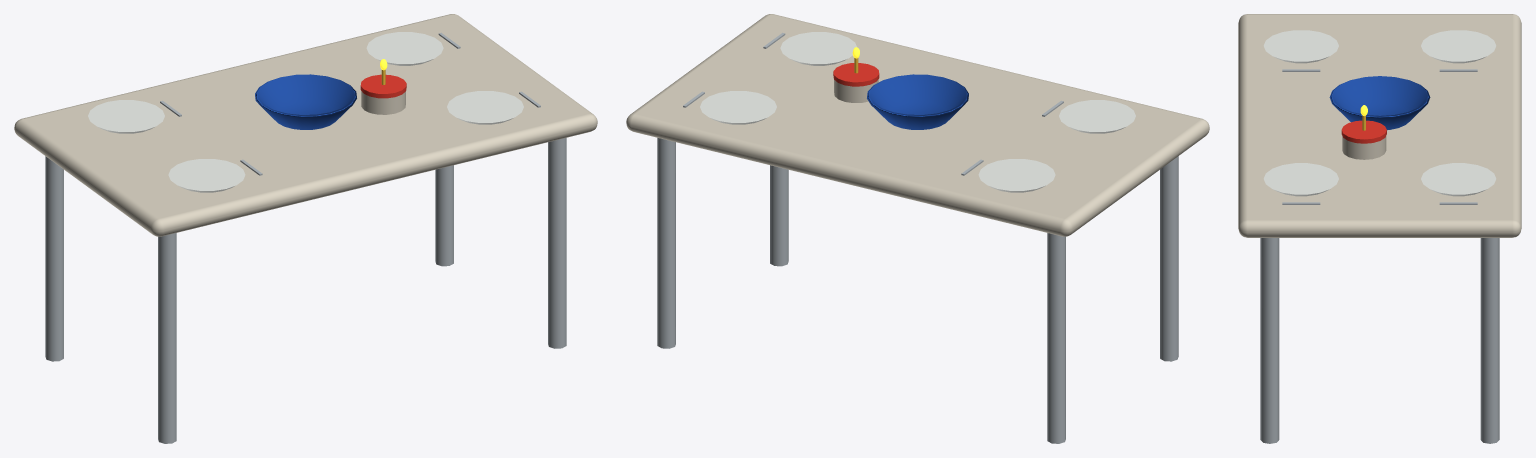
File: galley-table.glb
3 renders of one model, left to right at view 1: azimuth 30°, elevation 25°; view 2: azimuth 150°, elevation 25°; view 3: azimuth 270°, elevation 25°, orthographic. The views are drawn at different scales.
Parts seen in each view (by area): view 1: galley-table-hull-cream, galley-table-aluminium, galley-table-hull-white, salad_bowl-nasa-blue, cake-pepper-red, cake-hull-cream; view 2: galley-table-hull-cream, galley-table-aluminium, galley-table-hull-white, salad_bowl-nasa-blue, cake-pepper-red, cake-hull-cream; view 3: galley-table-hull-cream, galley-table-aluminium, galley-table-hull-white, salad_bowl-nasa-blue, cake-pepper-red, cake-hull-cream.
Boxes of the visible parts, box(x1,y1,x2,y2) form: galley-table-hull-cream: box(14, 14, 597, 236); galley-table-aluminium: box(45, 32, 566, 443); galley-table-hull-white: box(88, 32, 523, 192); salad_bowl-nasa-blue: box(255, 74, 356, 129); cake-pepper-red: box(360, 74, 406, 98); cake-hull-cream: box(361, 91, 405, 114); galley-table-hull-cream: box(626, 14, 1209, 236); galley-table-aluminium: box(657, 32, 1178, 443); galley-table-hull-white: box(700, 32, 1135, 192); salad_bowl-nasa-blue: box(867, 74, 968, 129); cake-pepper-red: box(833, 63, 879, 86); cake-hull-cream: box(834, 79, 878, 102); galley-table-hull-cream: box(1238, 14, 1521, 237); galley-table-aluminium: box(1260, 69, 1499, 443); galley-table-hull-white: box(1263, 30, 1496, 196); salad_bowl-nasa-blue: box(1329, 76, 1430, 130); cake-pepper-red: box(1341, 120, 1386, 143); cake-hull-cream: box(1342, 136, 1386, 159).
Size of the model in its own units: 1.6 by 0.9642 by 0.9.
